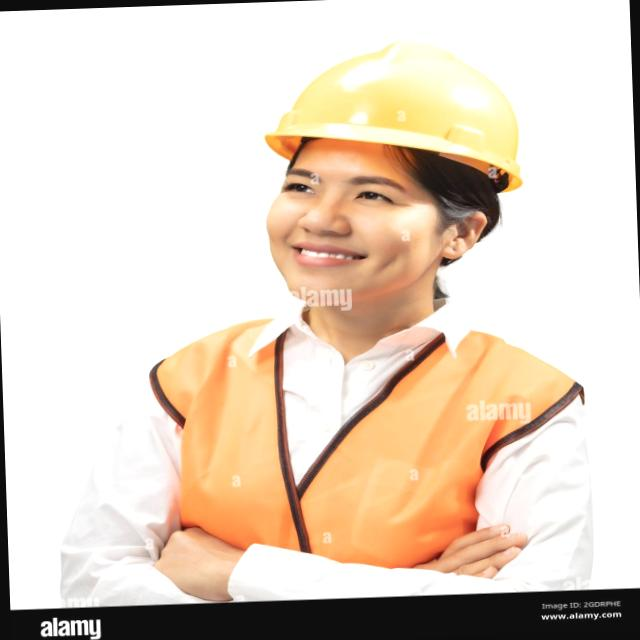helmet: (256, 32, 532, 202)
no-goggles: (253, 146, 480, 238)
vest: (134, 290, 592, 572)
